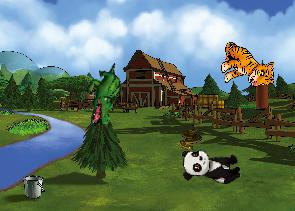crocodile: (82, 63, 126, 127)
panda: (180, 148, 242, 184)
tiger: (220, 42, 274, 87)
